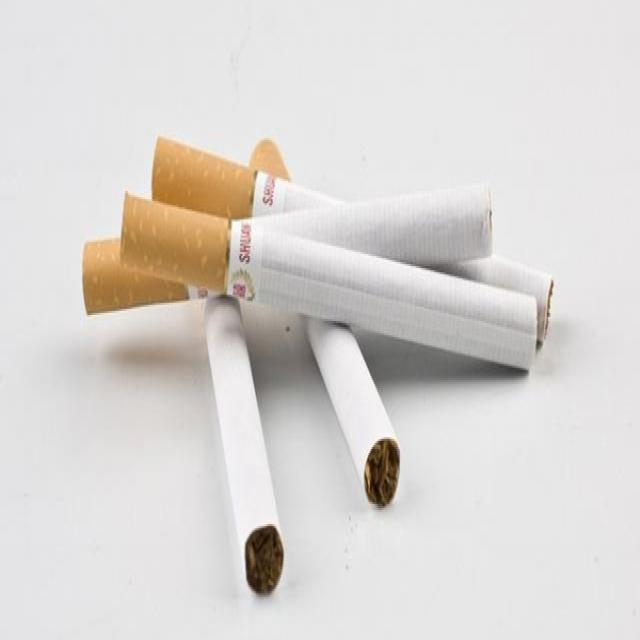cigarette: (132, 118, 559, 404)
